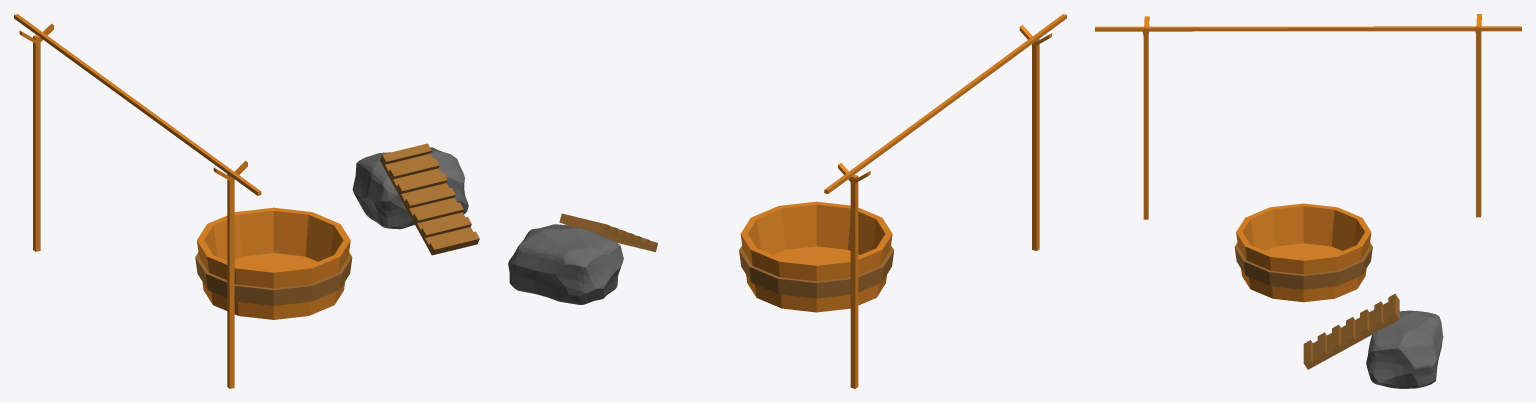
Rendered from washplace.fbx.
3 renders of one model, left to right at view 1: azimuth 30°, elevation 25°; view 2: azimuth 150°, elevation 25°; view 3: azimuth 270°, elevation 25°, orthographic. The views are drawn at different scales.
Visible parts, largest first — view 1: Wash_bowl, Wash_plate, rock004.007, Wash_hanger_001, stick_wood_001.003, stick_wood_001.002; view 2: Wash_bowl, rock004.007, stick_wood_001.003, Wash_hanger_001, stick_wood_001.002, Wash_plate; view 3: Wash_bowl, rock004.007, Wash_plate, Wash_hanger_001, stick_wood_001.003, stick_wood_001.002.
Boxes of the visible parts, x1,y1,x2,y2 form: Wash_bowl: (195,207,352,319); Wash_plate: (380,143,479,255); rock004.007: (352,147,468,229); Wash_hanger_001: (14,14,261,195); stick_wood_001.003: (19,23,53,251); stick_wood_001.002: (213,160,247,388); Wash_bowl: (739,201,893,312); rock004.007: (508,224,623,304); stick_wood_001.003: (838,163,870,388); Wash_hanger_001: (824,14,1066,193); stick_wood_001.002: (1019,25,1051,250); Wash_plate: (559,213,657,252); Wash_bowl: (1234,203,1372,302); rock004.007: (1366,310,1443,388); Wash_plate: (1303,293,1399,369); Wash_hanger_001: (1095,26,1521,31); stick_wood_001.003: (1475,14,1481,217); stick_wood_001.002: (1142,16,1149,219).
Size of the model in its own units: 1229 by 709 by 1300.
